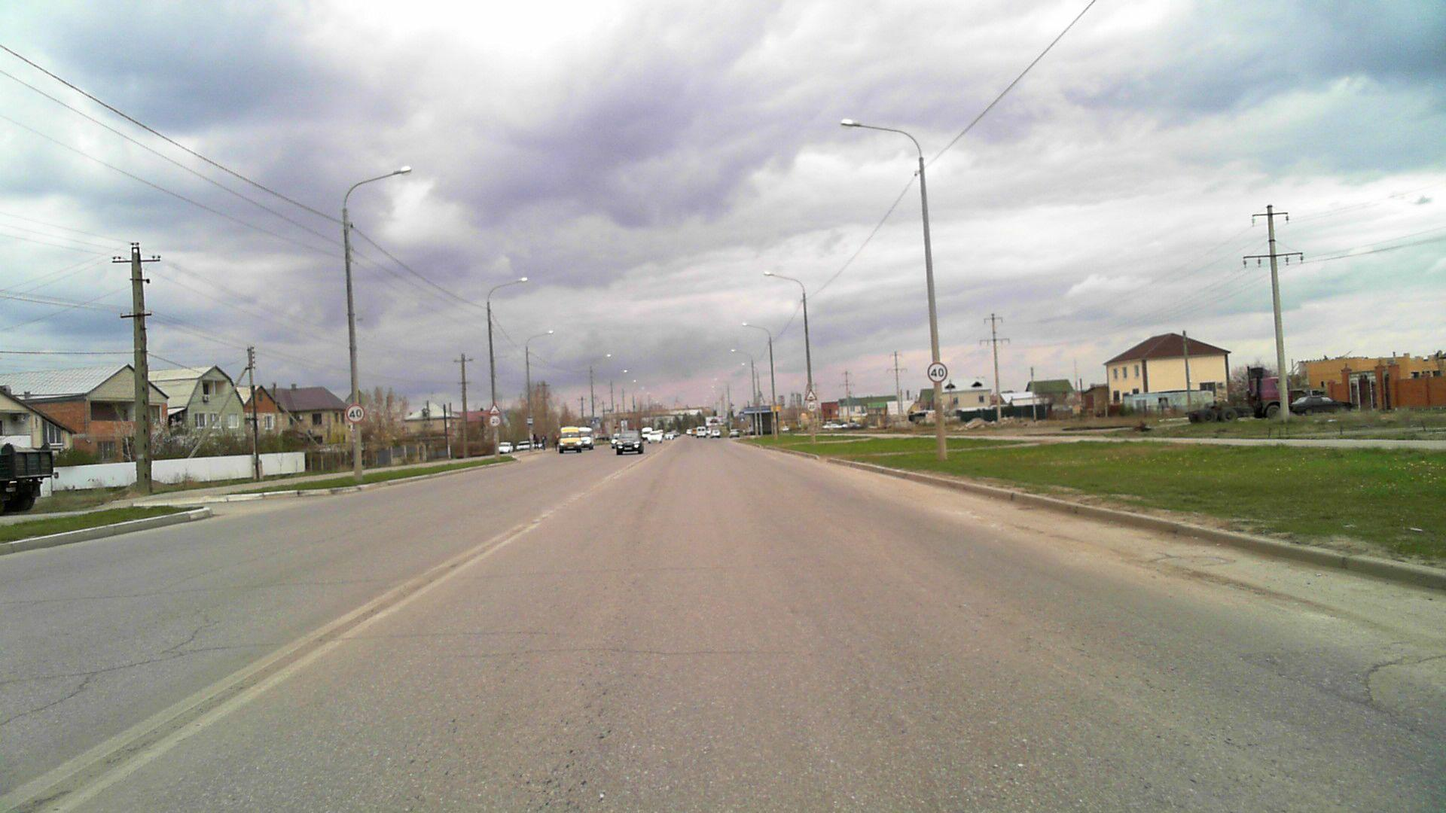road_sign: (927, 362, 947, 383), (345, 404, 365, 424)
